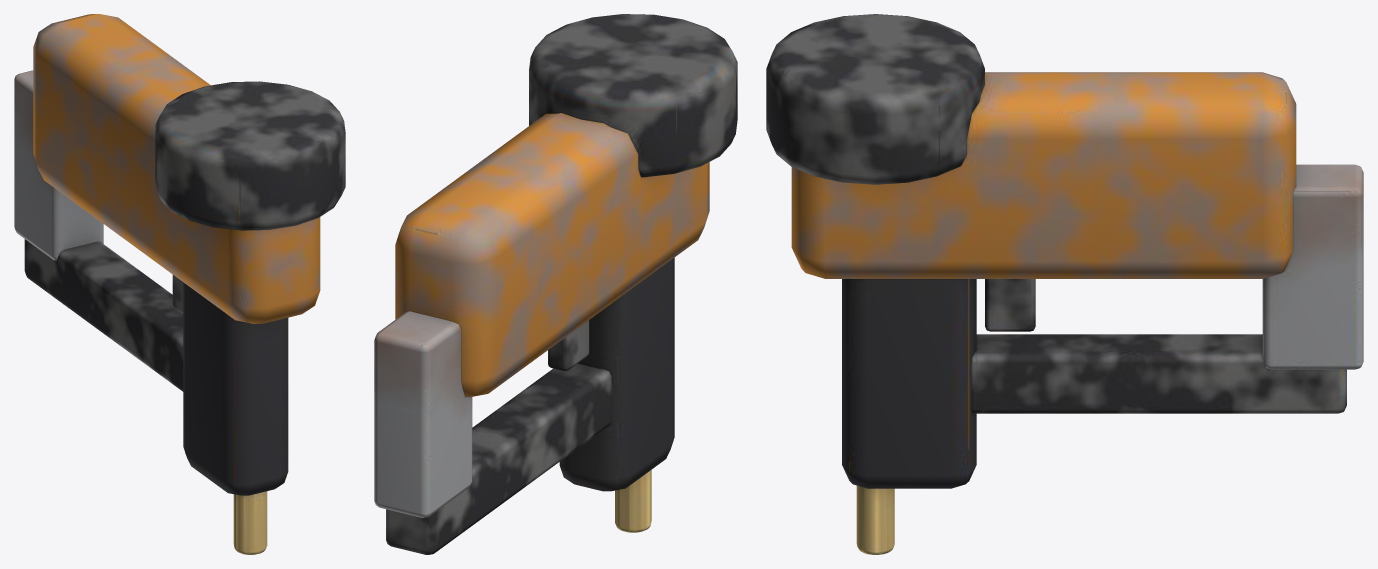
The model's file is nail_gun.glb.
The picture shows the model from 3 angles, left to right: view 1: azimuth 30°, elevation 25°; view 2: azimuth 150°, elevation 25°; view 3: azimuth 270°, elevation 25°; orthographic projection. The views are drawn at different scales.
Parts seen in each view (by area): view 1: NailGun; view 2: NailGun; view 3: NailGun.
Part boxes in pixels (bbox=[...]): NailGun: bbox=[14, 14, 345, 554]; NailGun: bbox=[374, 14, 737, 554]; NailGun: bbox=[766, 14, 1363, 554].
Bounding box in the file's own units: 0.13 × 0.325 × 0.355.
5 materials, 5 textured.
